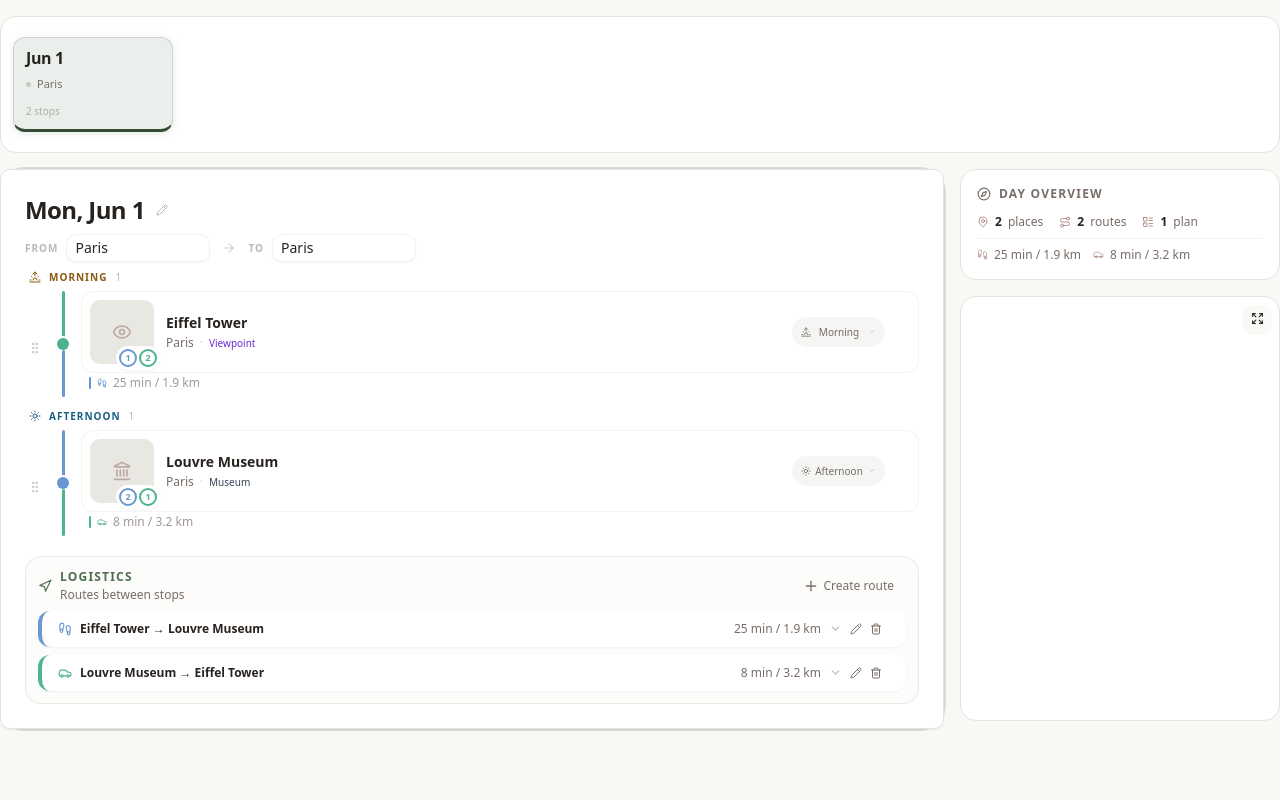
SidebarMap — route card click selection in expanded dialog › shows route cards in the expanded dialog when routes exist
Click the button named "expand map" at (1257,318), box [1243,304,1271,332]
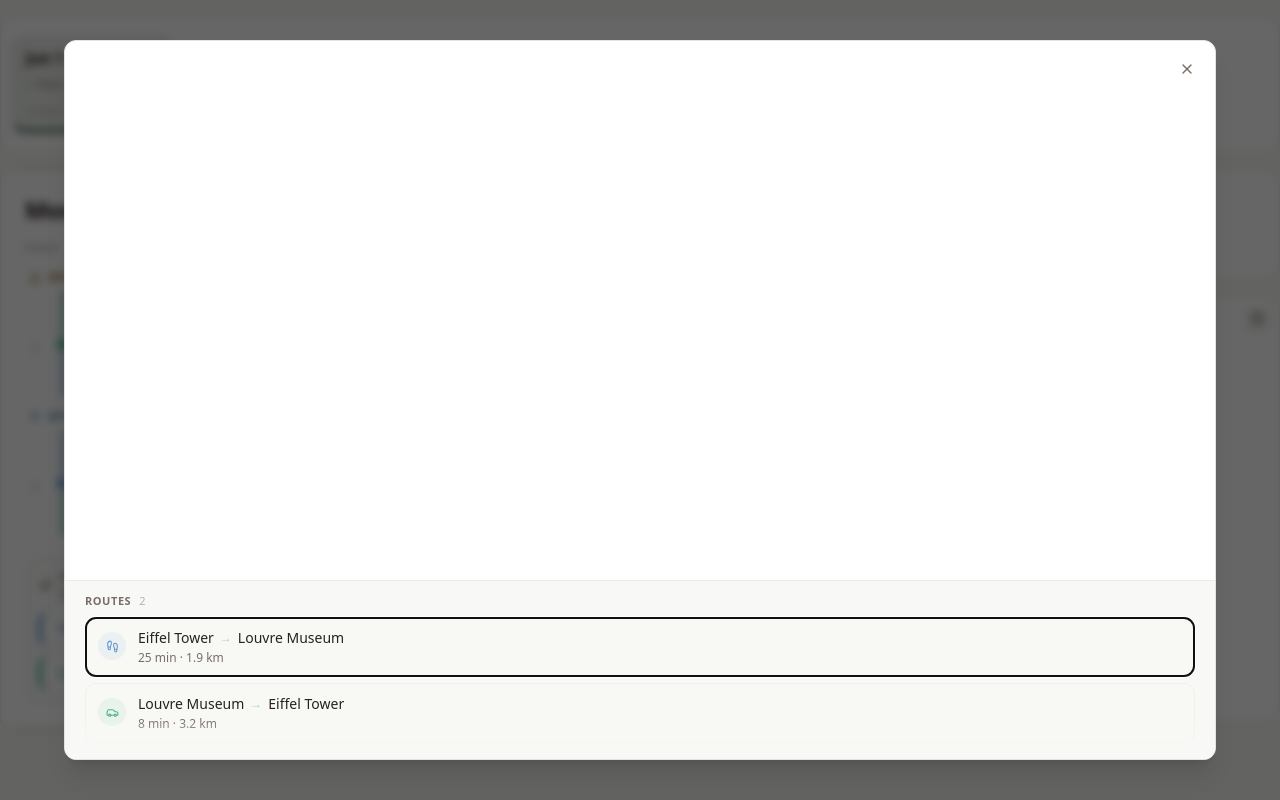
Expected: the number of buttons named "select route" is 2, [85,617,1195,677]; [85,683,1195,743]
